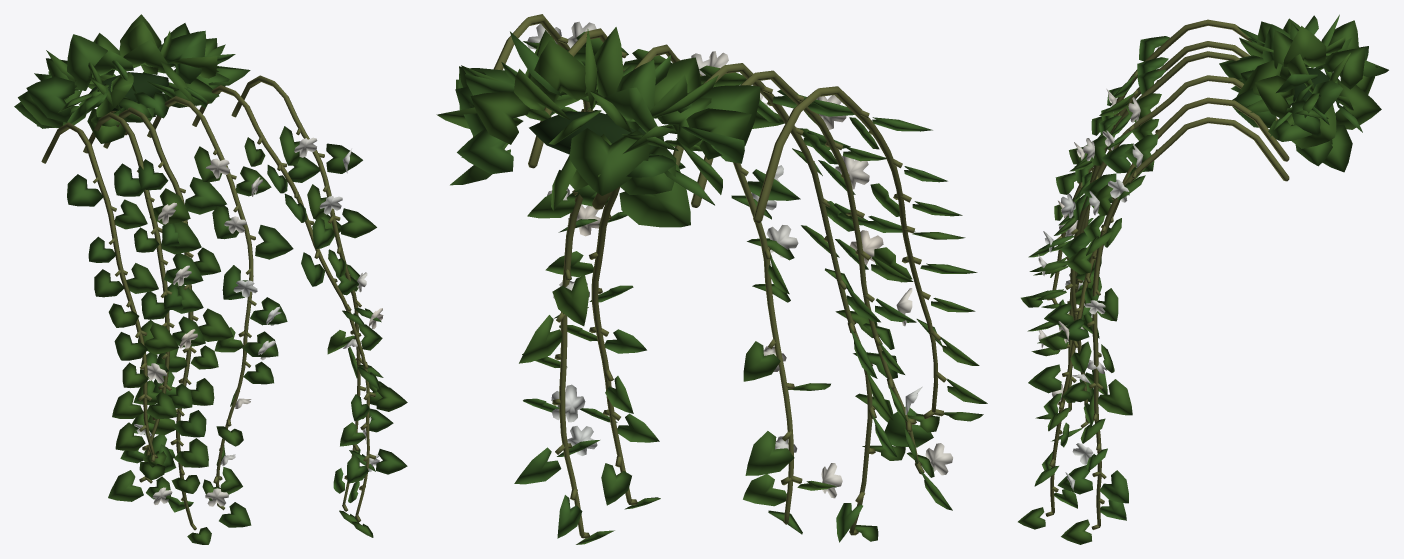
Rendered from box_ivy.glb.
3 renders of one model, left to right at view 1: azimuth 30°, elevation 25°; view 2: azimuth 150°, elevation 25°; view 3: azimuth 270°, elevation 25°, orthographic. The views are drawn at different scales.
Visible parts, largest first — view 1: Sammel Pflanze, Sammel Putz, Sammel Blatt; view 2: Sammel Pflanze, Sammel Putz, Sammel Blatt; view 3: Sammel Pflanze, Sammel Putz.
Part boxes in pixels (x1,y1,x2,y2): Sammel Pflanze: (14, 14, 407, 544); Sammel Putz: (41, 75, 376, 530); Sammel Blatt: (89, 72, 169, 110); Sammel Pflanze: (436, 21, 987, 544); Sammel Putz: (473, 14, 946, 538); Sammel Blatt: (529, 111, 656, 154); Sammel Pflanze: (1018, 14, 1388, 544); Sammel Putz: (1045, 19, 1289, 529).
Size of the model in its own units: 0.3786 by 0.5388 by 0.3915.
